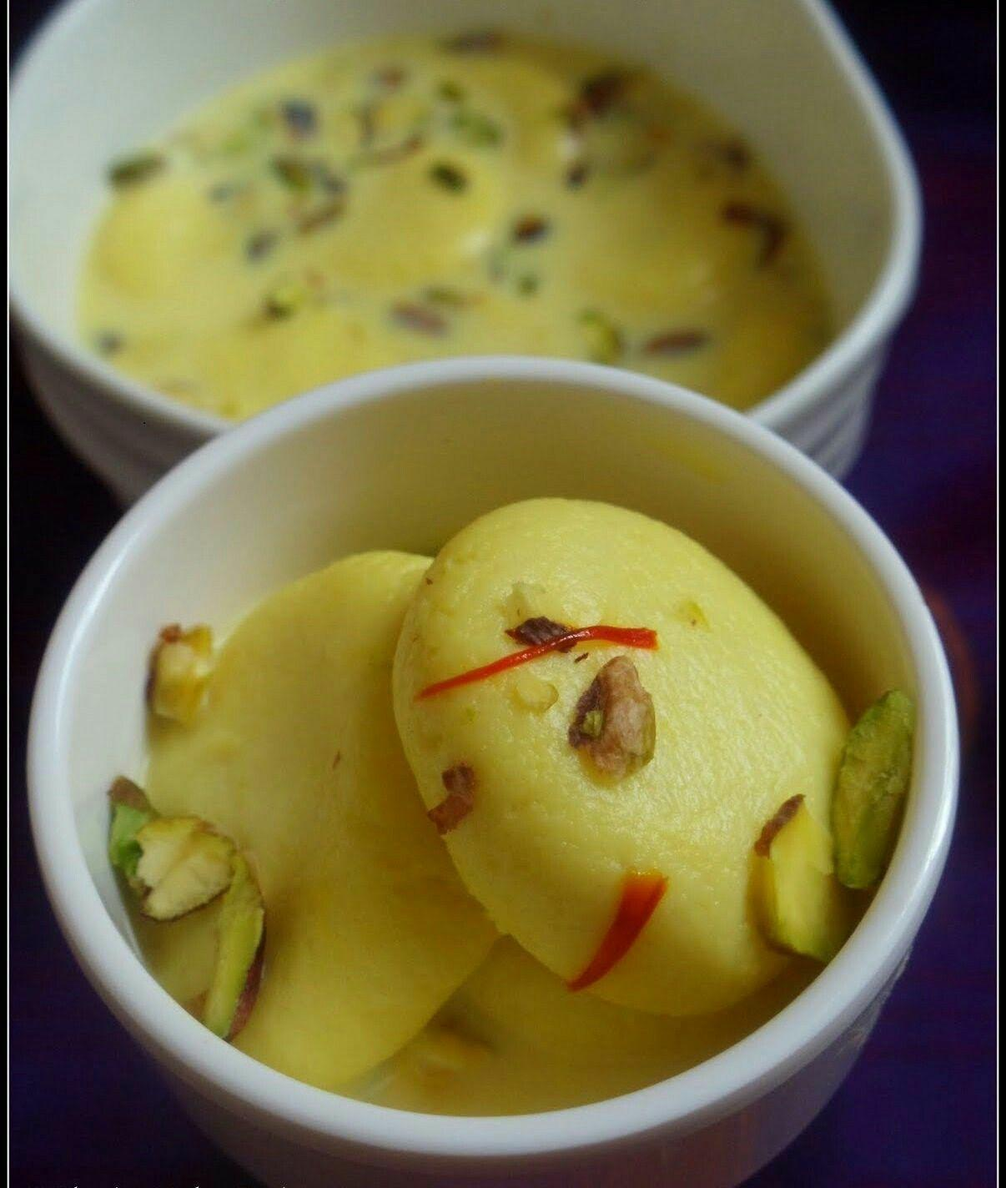RasMalai: (134, 484, 876, 1121)
